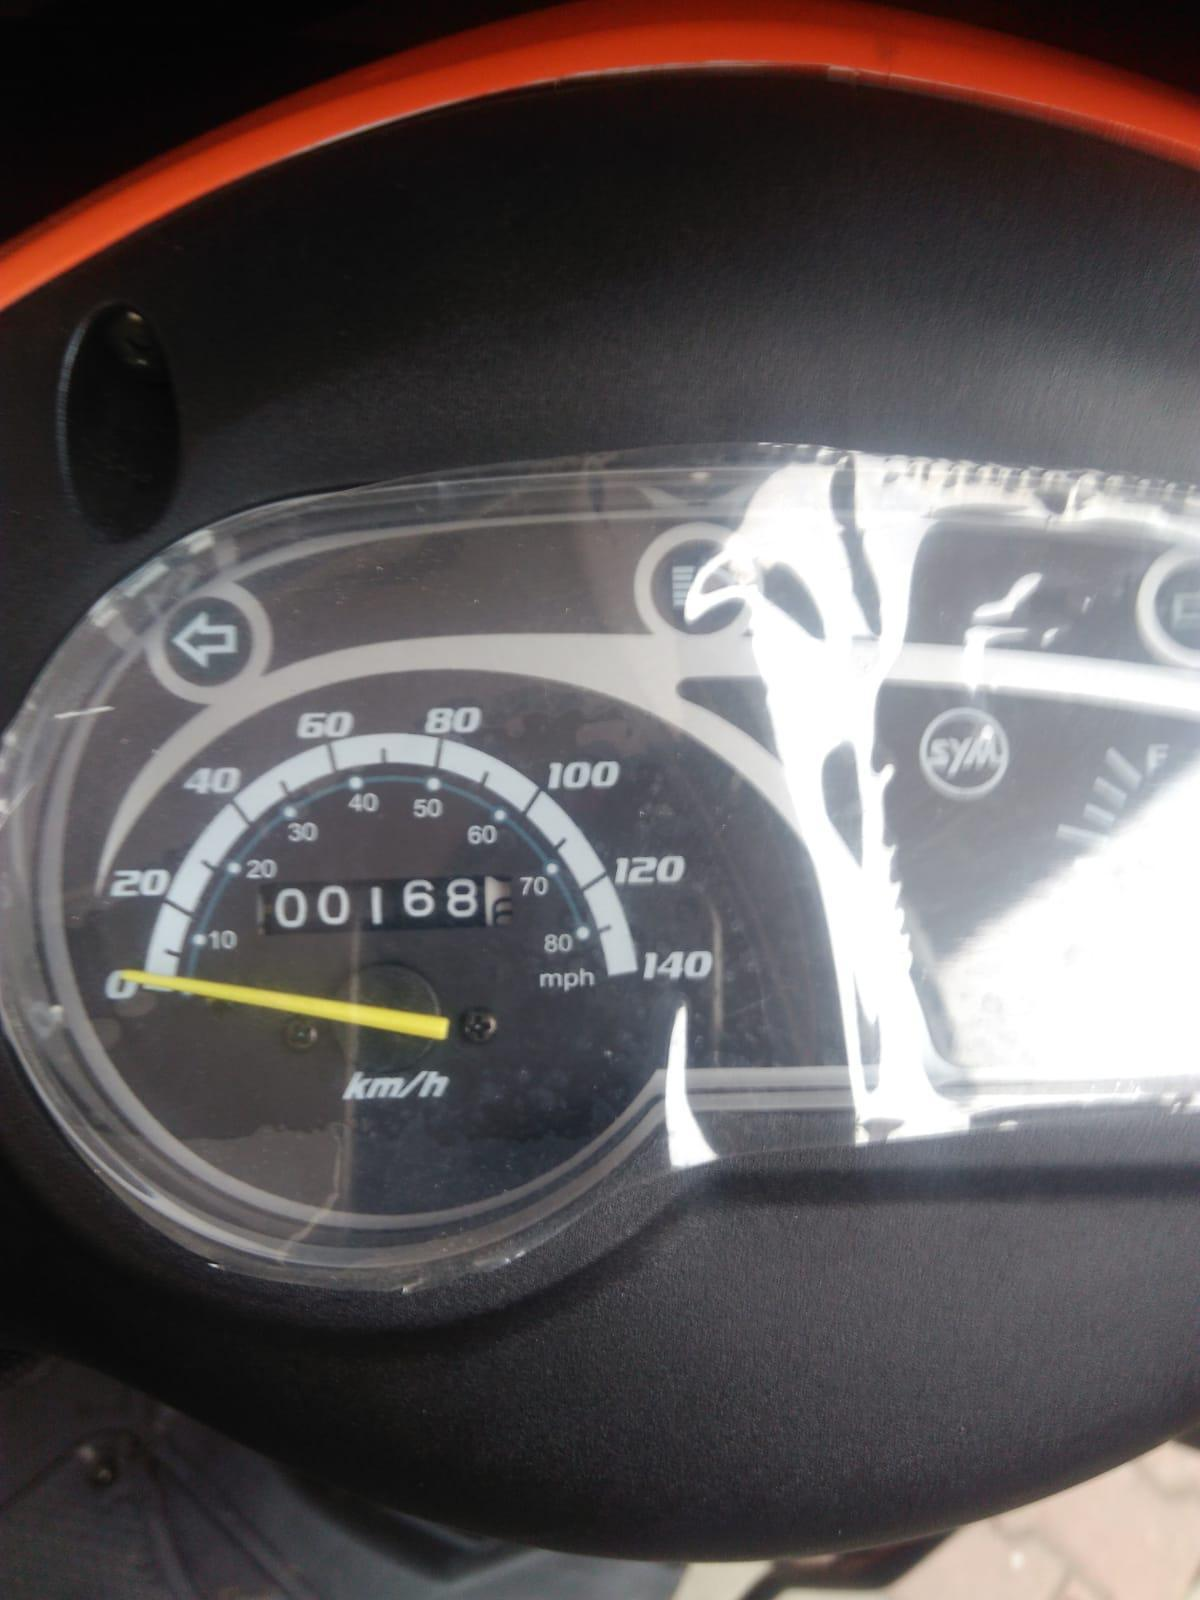0: (274, 886, 309, 929), (315, 884, 350, 925)
1: (367, 884, 384, 926)
6: (401, 878, 436, 918), (492, 896, 518, 930)
8: (445, 877, 479, 918)
odometer: (255, 873, 518, 940)
